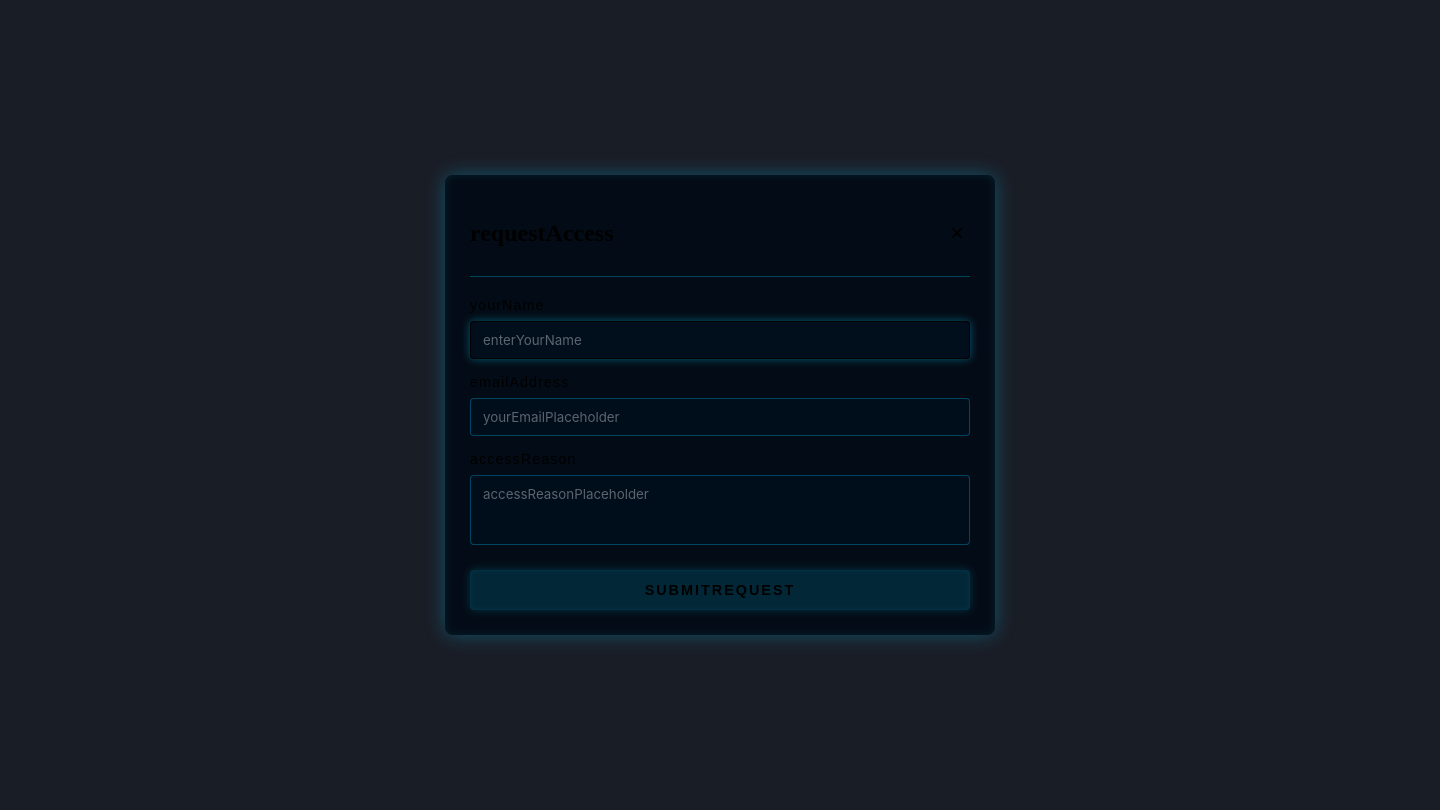
AccessRequestForm Component › notification toast › toast close button dismisses the notification
Submit the form, box [470,297,970,610]
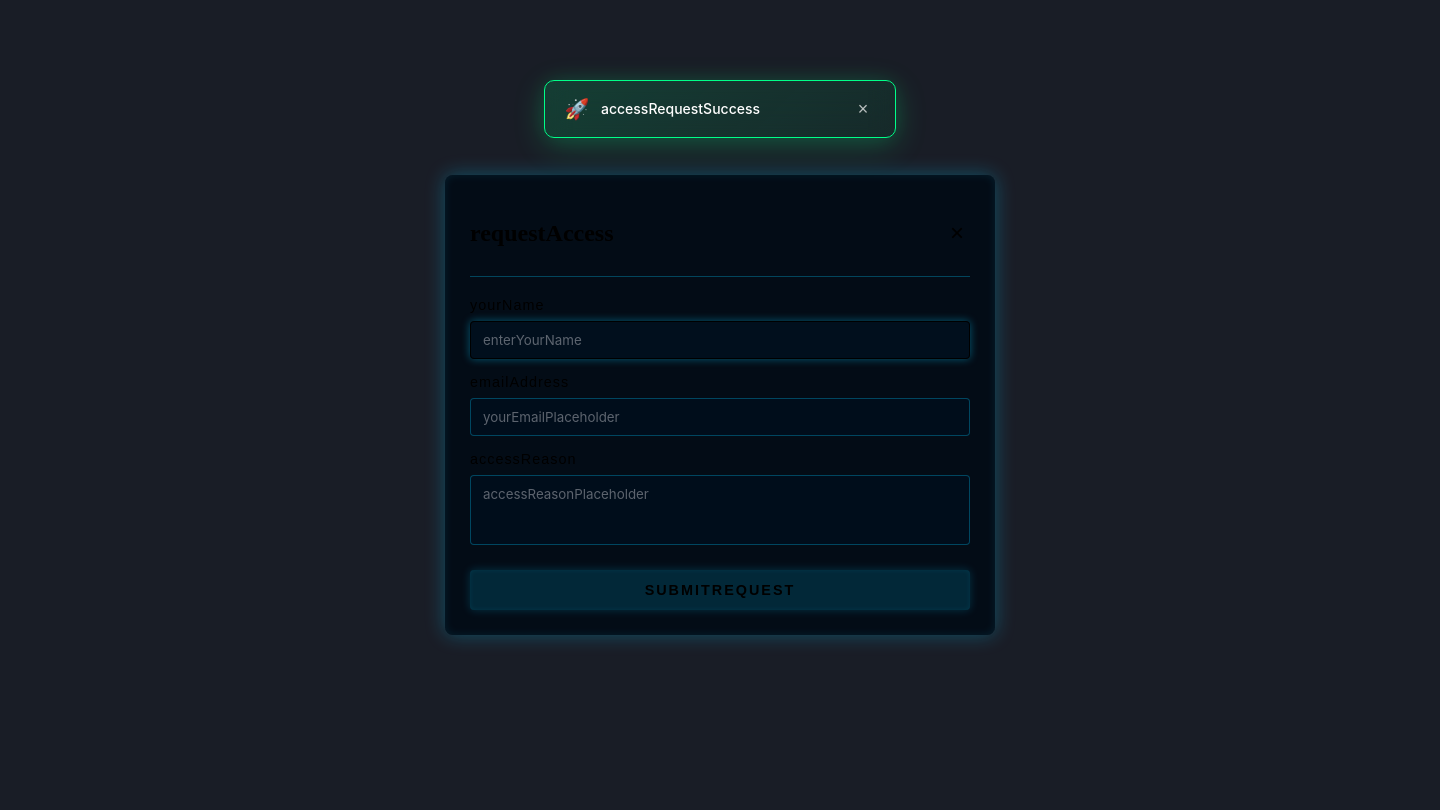
Check: the text "accessRequestSuccess" is shown, box [601,100,760,117]
Click the button "×" next to "accessRequestSuccess". click: (863, 109)
box: [851,97,875,121]
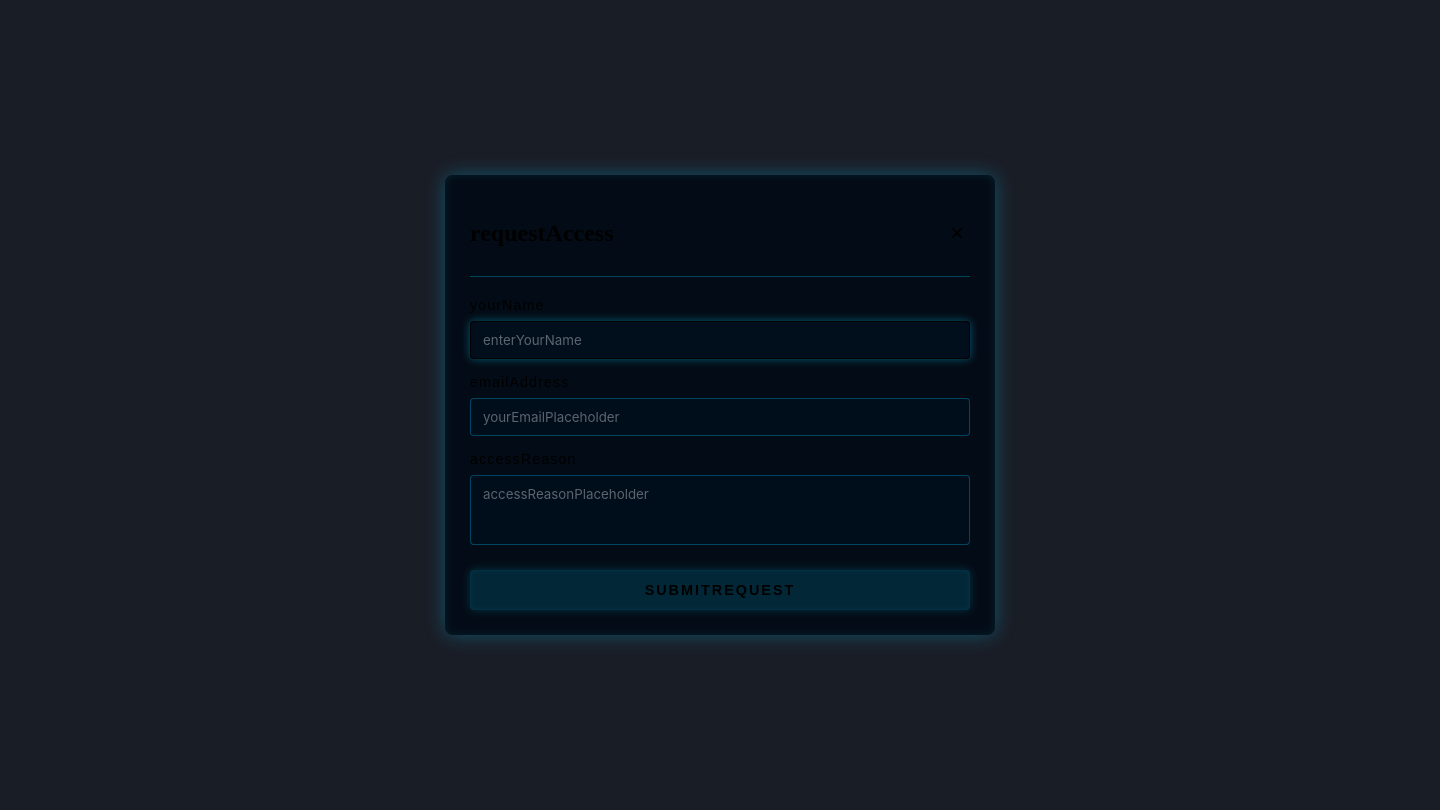
Check: the text "accessRequestSuccess" is gone
